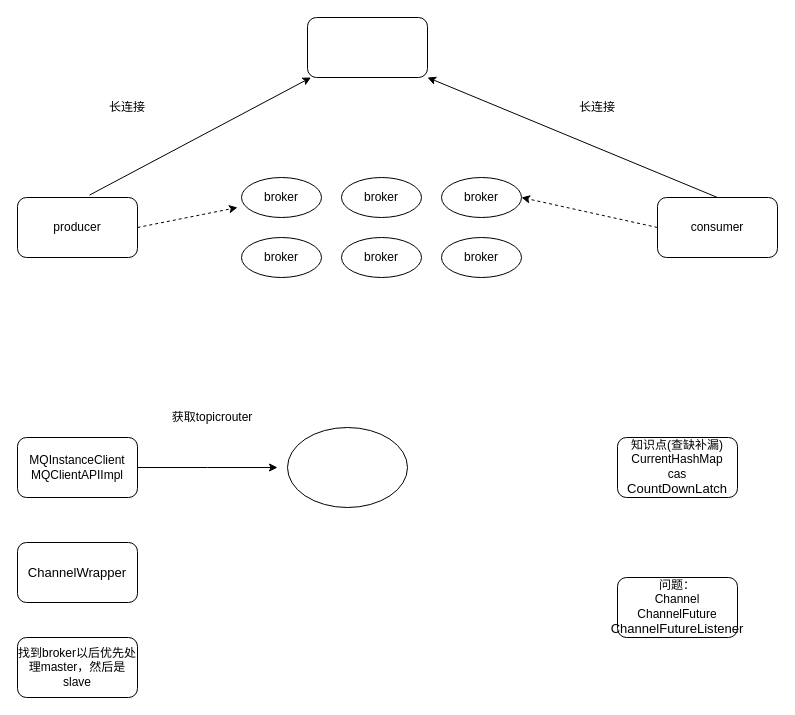
Image size: 795x715. Some labels were removed from this diagram. The centre of each missing label's shape, as x and y in pixels:
"name server" goes at (367,47).
"nameServer" goes at (347,467).
